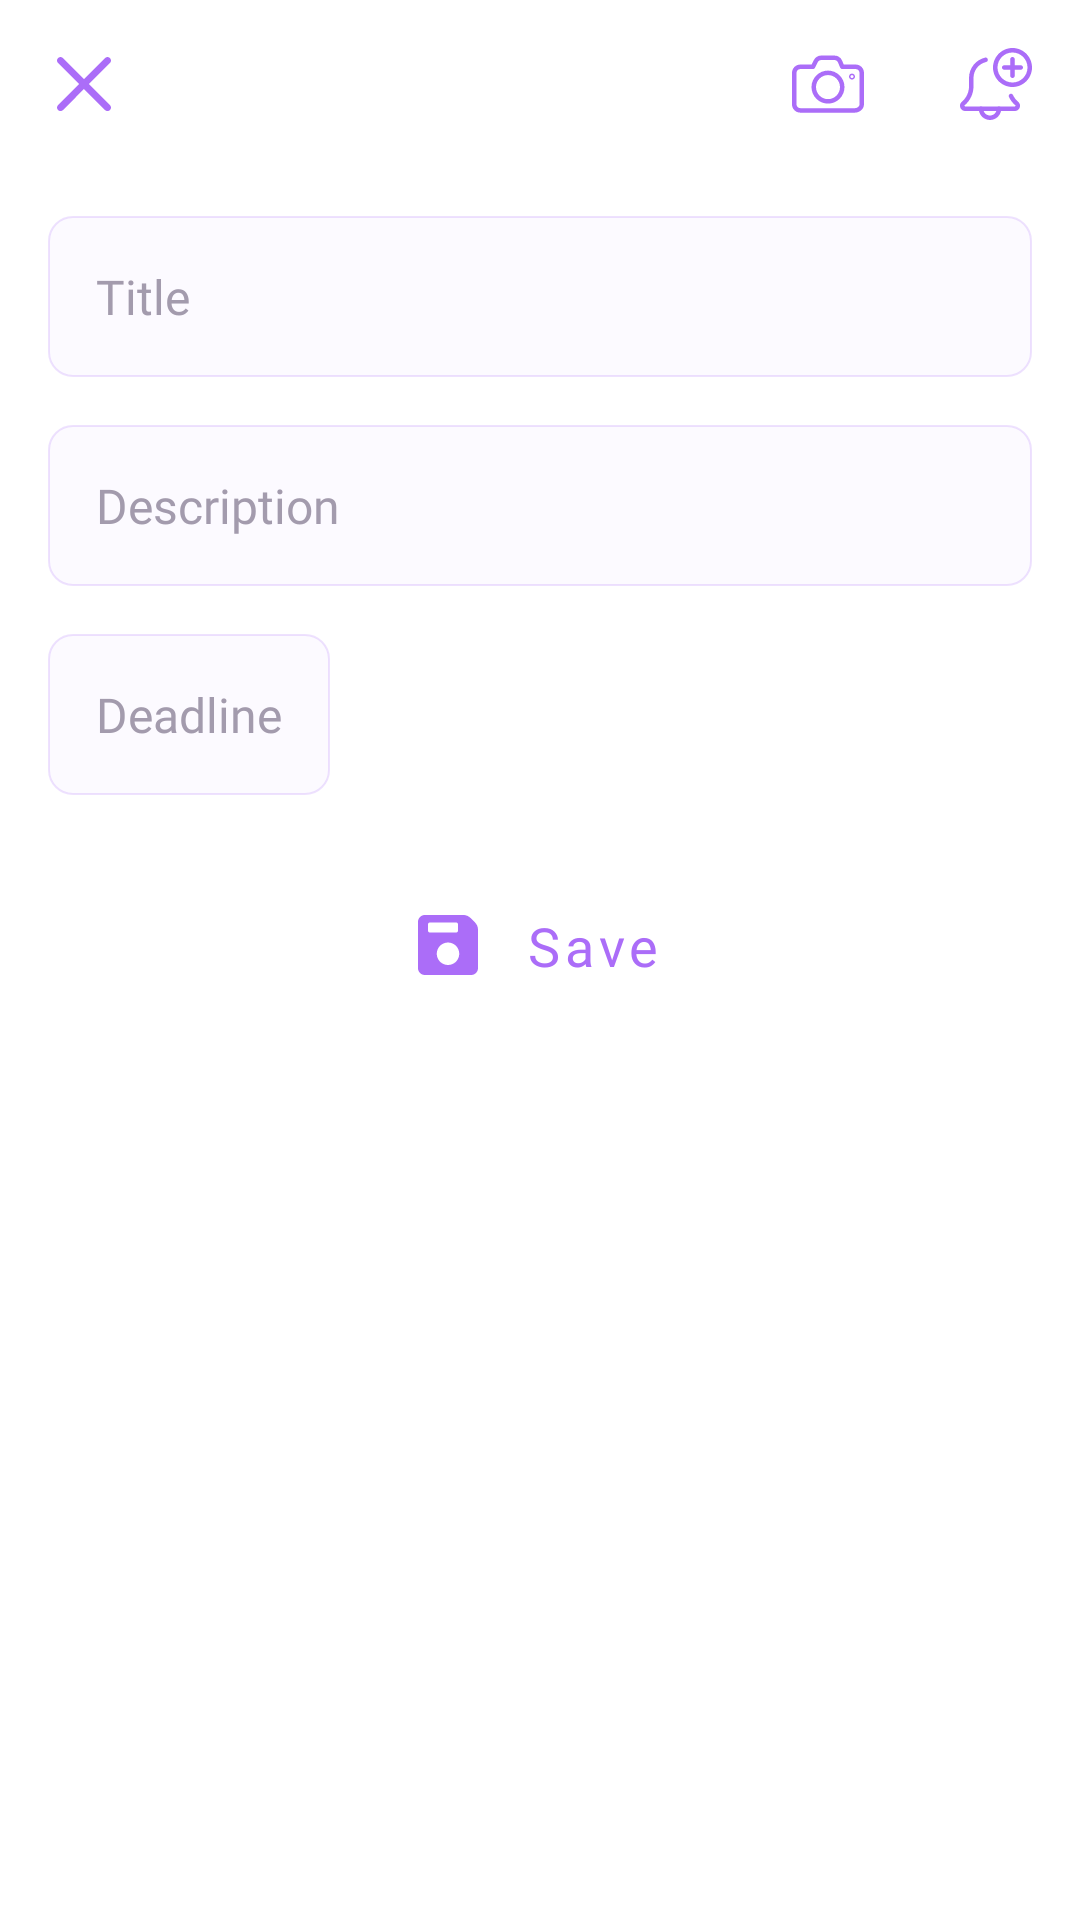

Icon click points for this 1080 × 1920 phone screenshot, format point (x, y):
add alarm: point (996, 84)
close: point (84, 84)
photo: point (828, 84)
